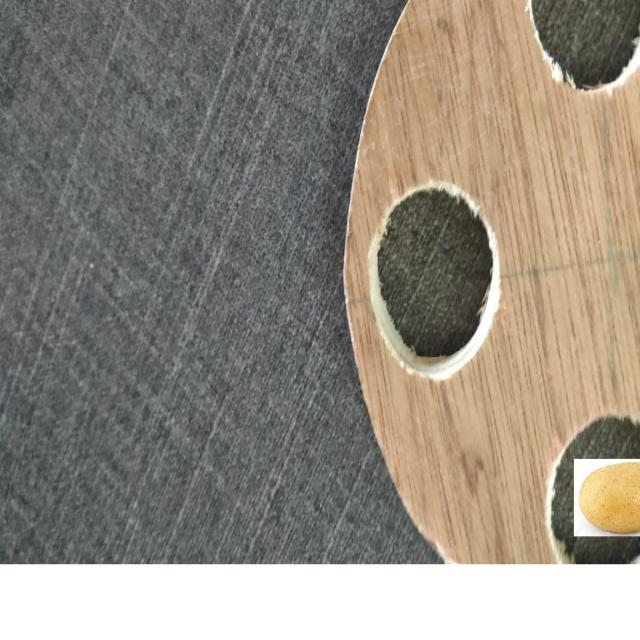potato: (580, 462, 640, 534)
